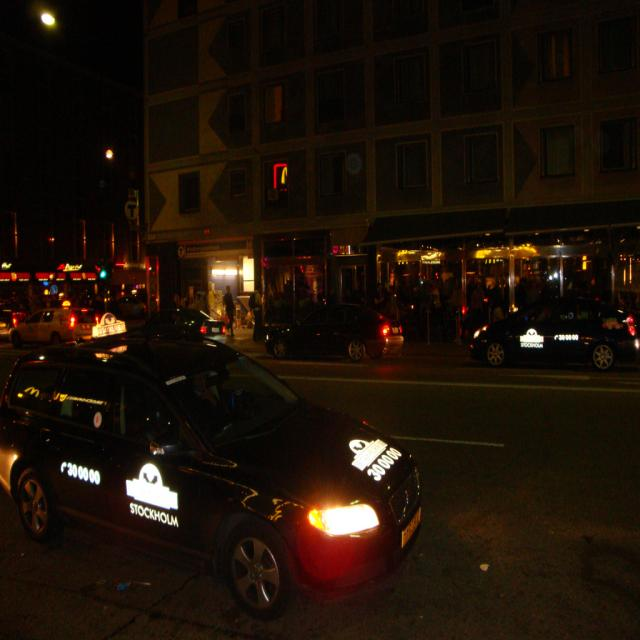car: (31, 337, 494, 640), (473, 281, 636, 390), (276, 292, 416, 391), (16, 294, 137, 356), (139, 294, 218, 356)
